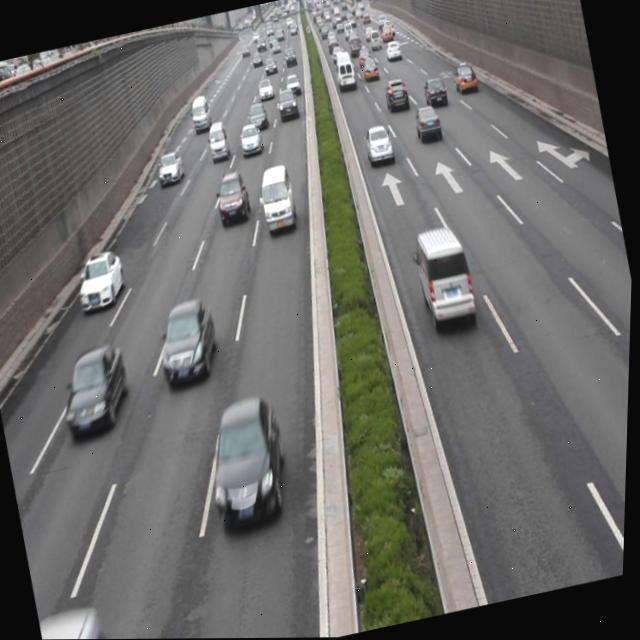car: (199, 396, 300, 530), (56, 344, 138, 436), (152, 298, 228, 390), (72, 249, 132, 315), (212, 167, 253, 223), (410, 99, 444, 147), (360, 122, 395, 168), (154, 149, 187, 186), (420, 75, 450, 112), (381, 76, 409, 114), (237, 122, 265, 157), (451, 61, 478, 96)
truck: (408, 219, 483, 338), (254, 162, 302, 234), (205, 119, 233, 160)
